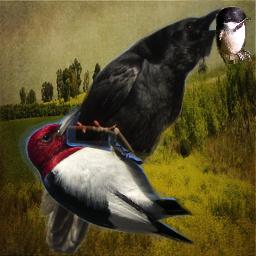Crow: (38, 3, 234, 253)
Swallow: (214, 5, 253, 64)
Woodpecker: (17, 103, 206, 246)
